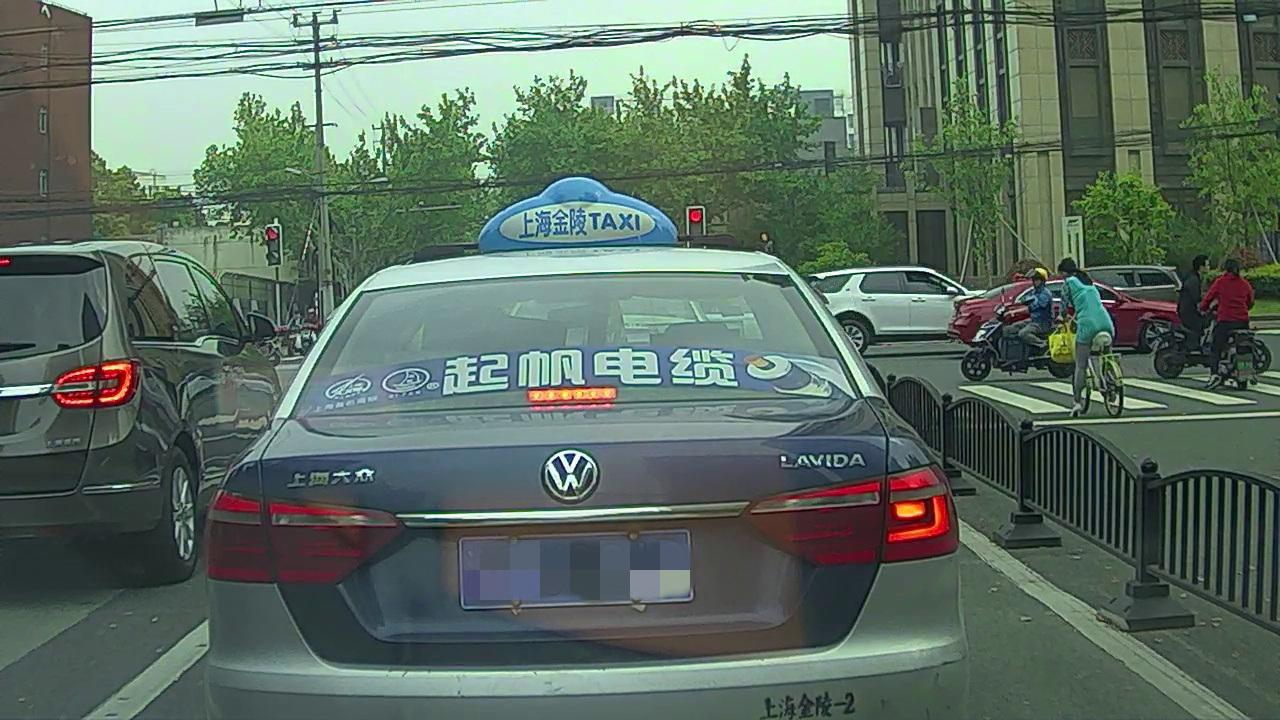traffic_light: (689, 208, 705, 236)
